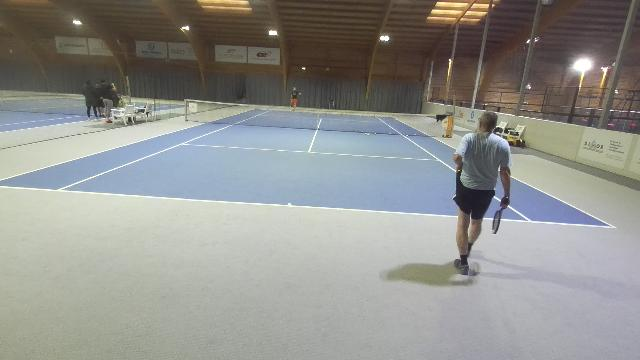tennisball: (413, 132, 417, 138), (364, 132, 368, 136), (374, 132, 378, 136), (388, 132, 392, 136), (443, 137, 447, 141), (298, 93, 302, 96), (366, 132, 369, 136), (406, 134, 408, 138)
